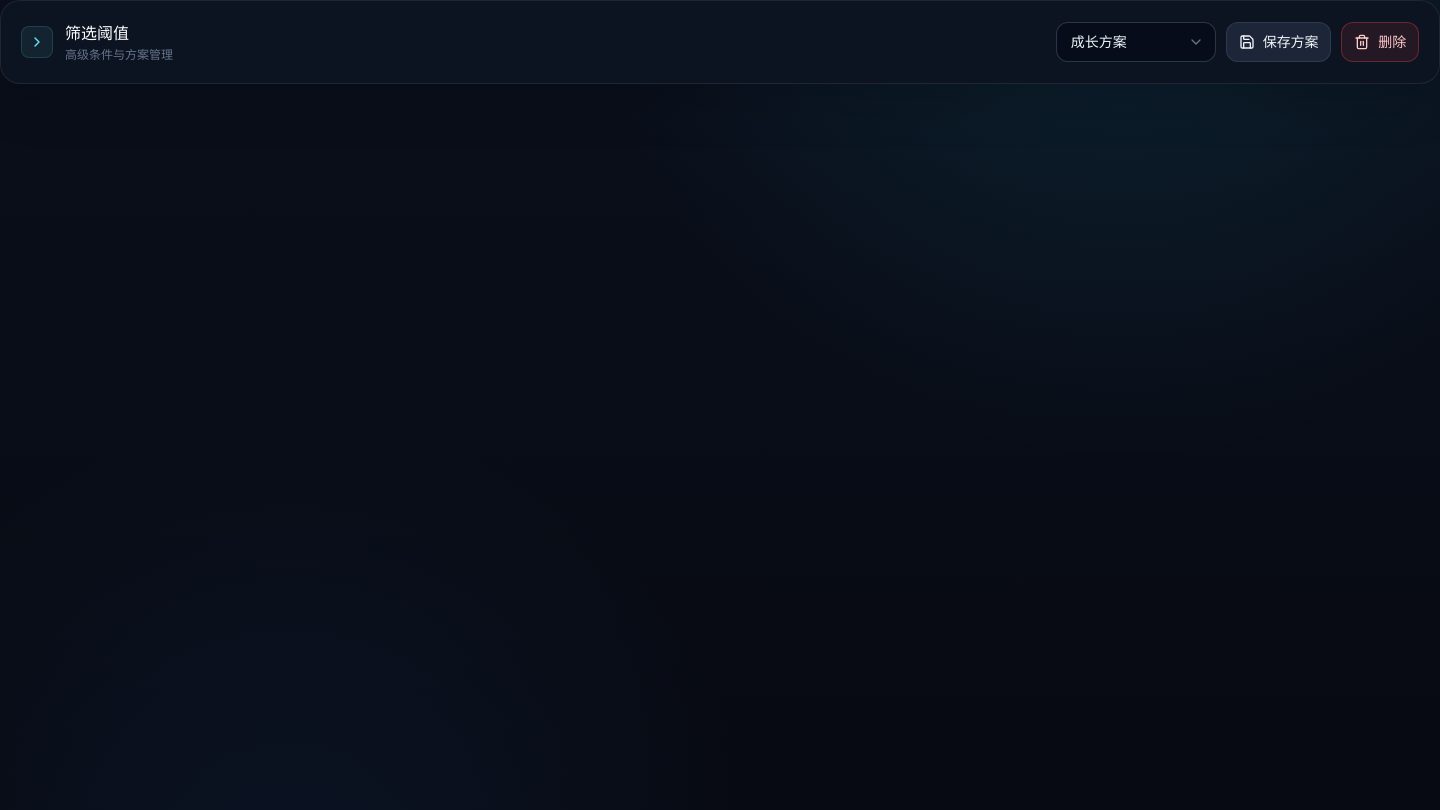
Scenario: Screener ThresholdPanel › saves a named preset through the inline editor
The width and height of the screenshot is (1440, 810).
Click the button "保存方案" at (1279, 42), box [1226,22,1331,62]
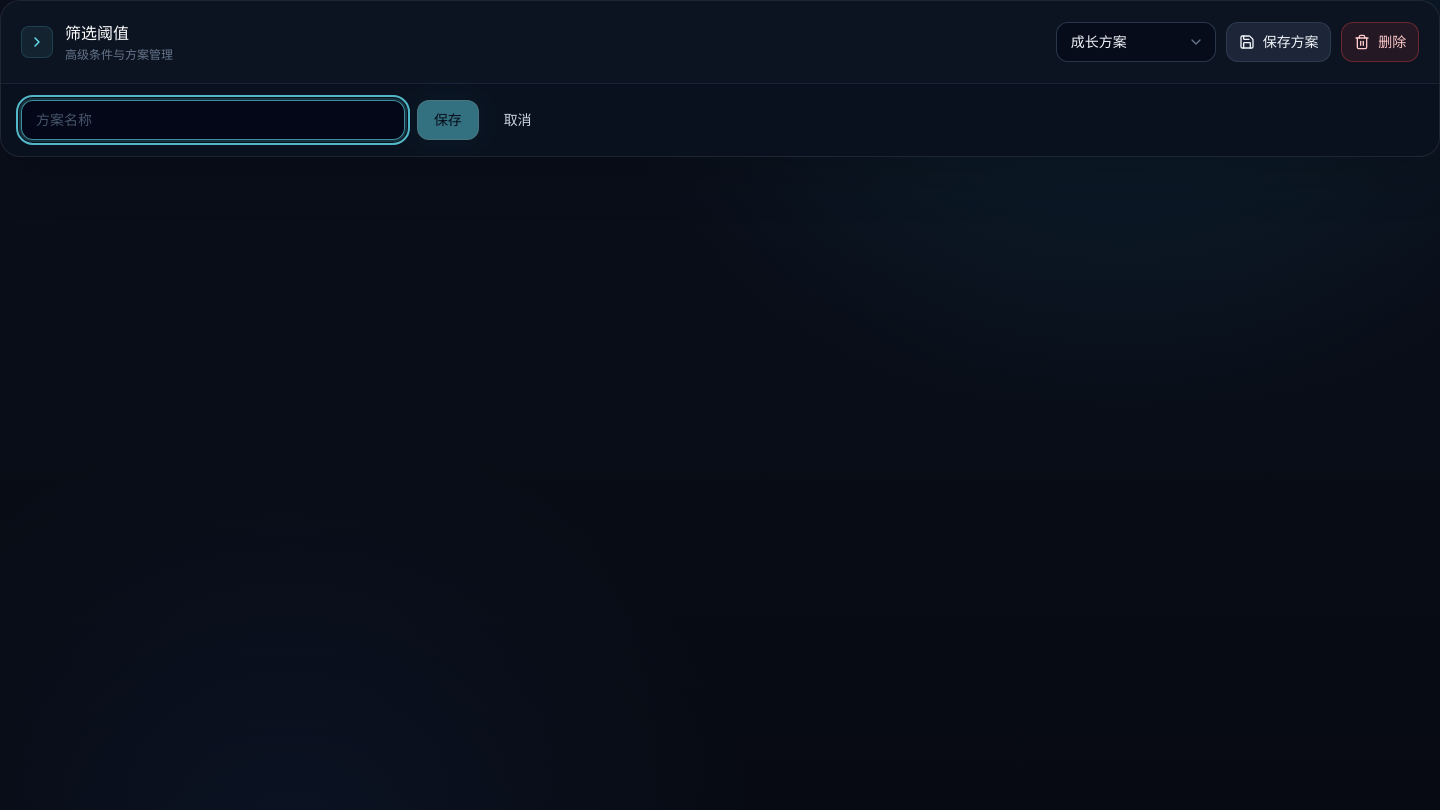
Type "动量方案" into the field labelled "方案名称" at (213, 120), box [21,100,405,140]
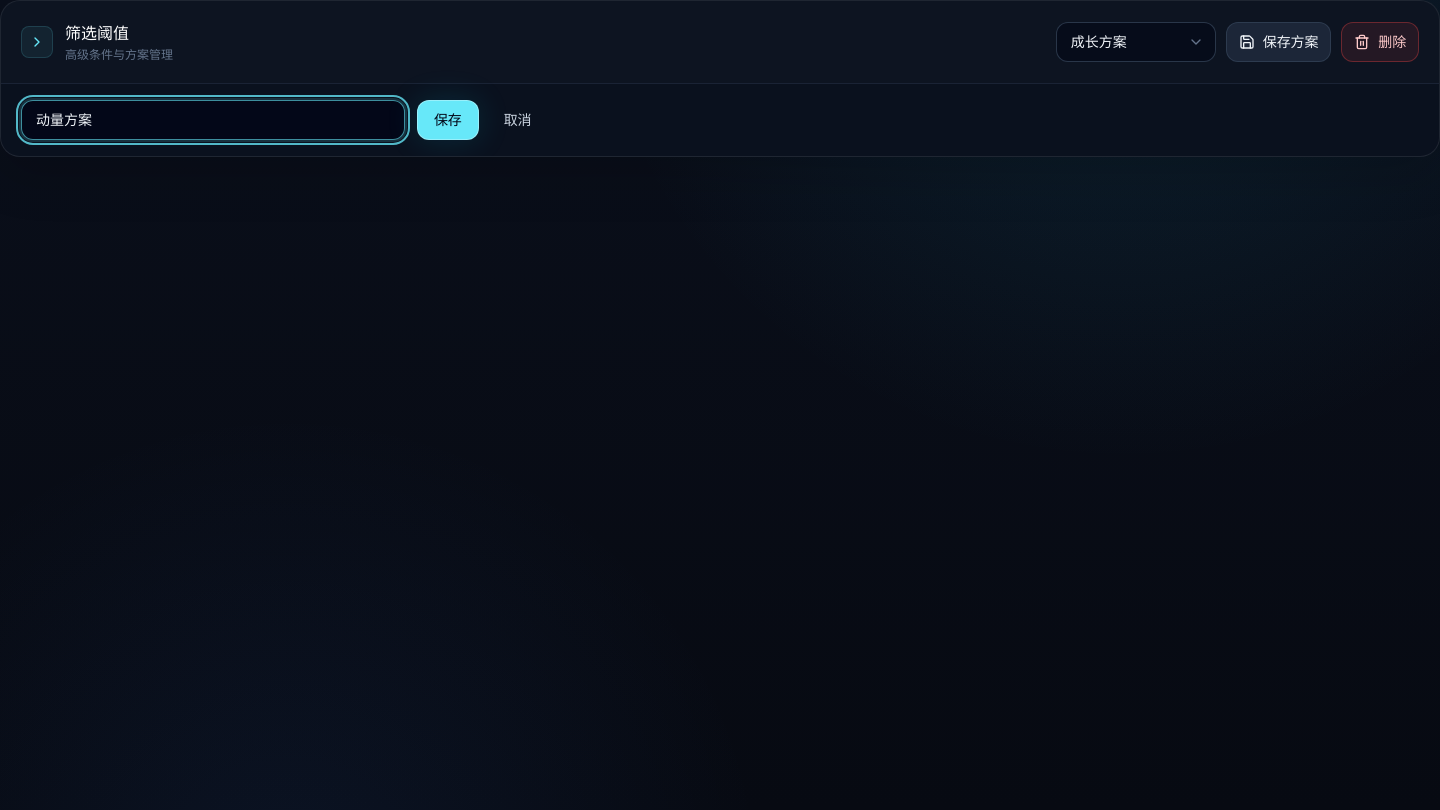
Click the button "保存" at (448, 120), box [417,100,479,140]
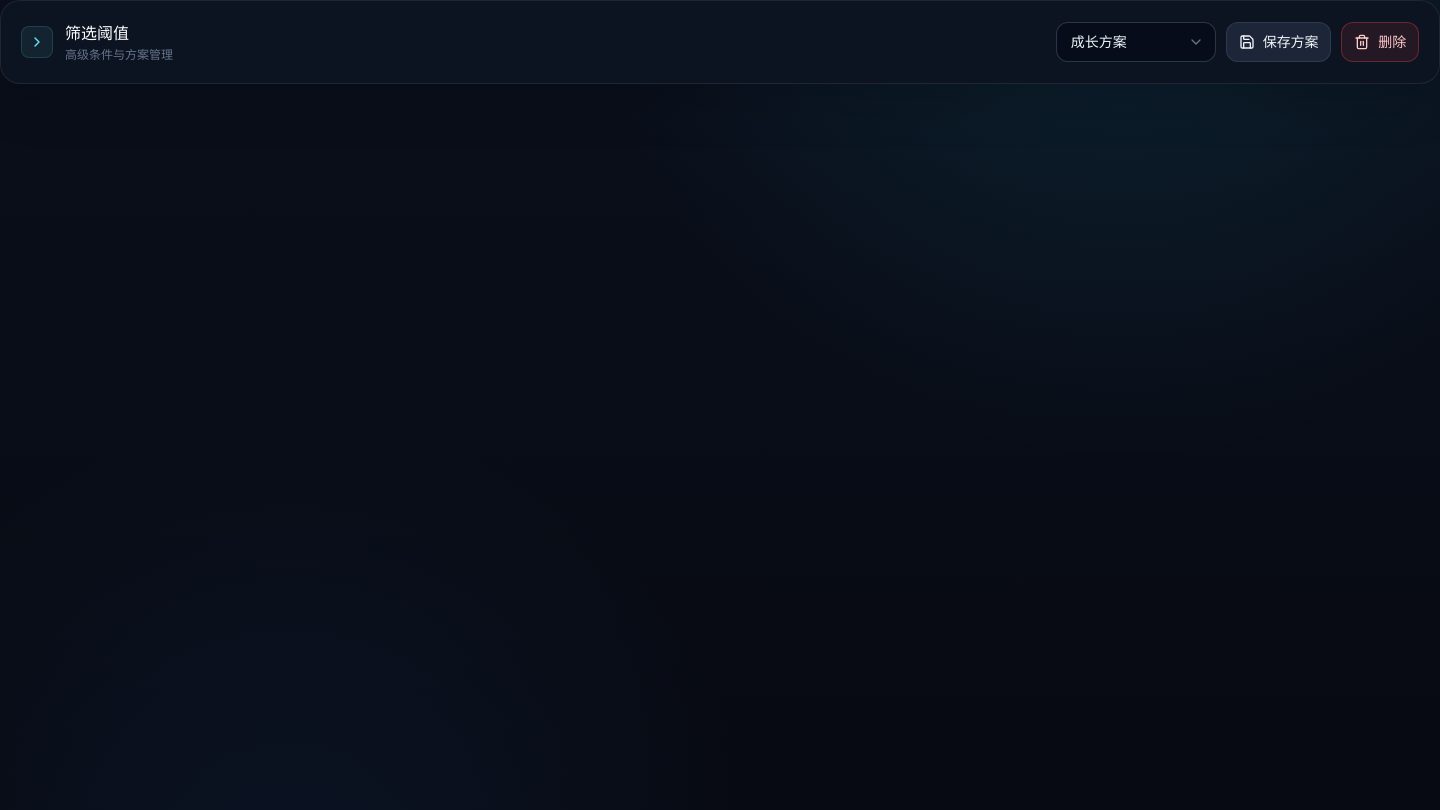
Expected: the field labelled "方案名称" is gone
